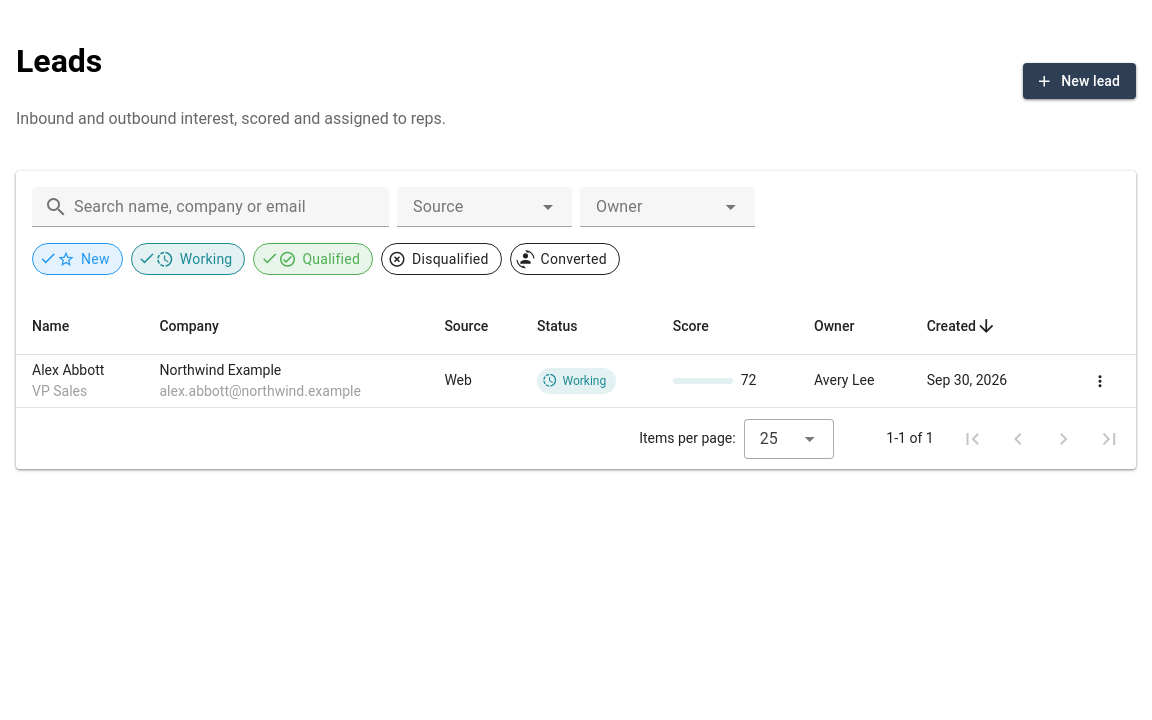
LeadsView › offers conversion and every other status to an open lead
This screenshot has width=1152, height=720.
Click the button with test id "actions". click: click(1100, 381)
box: [1080,361,1120,401]
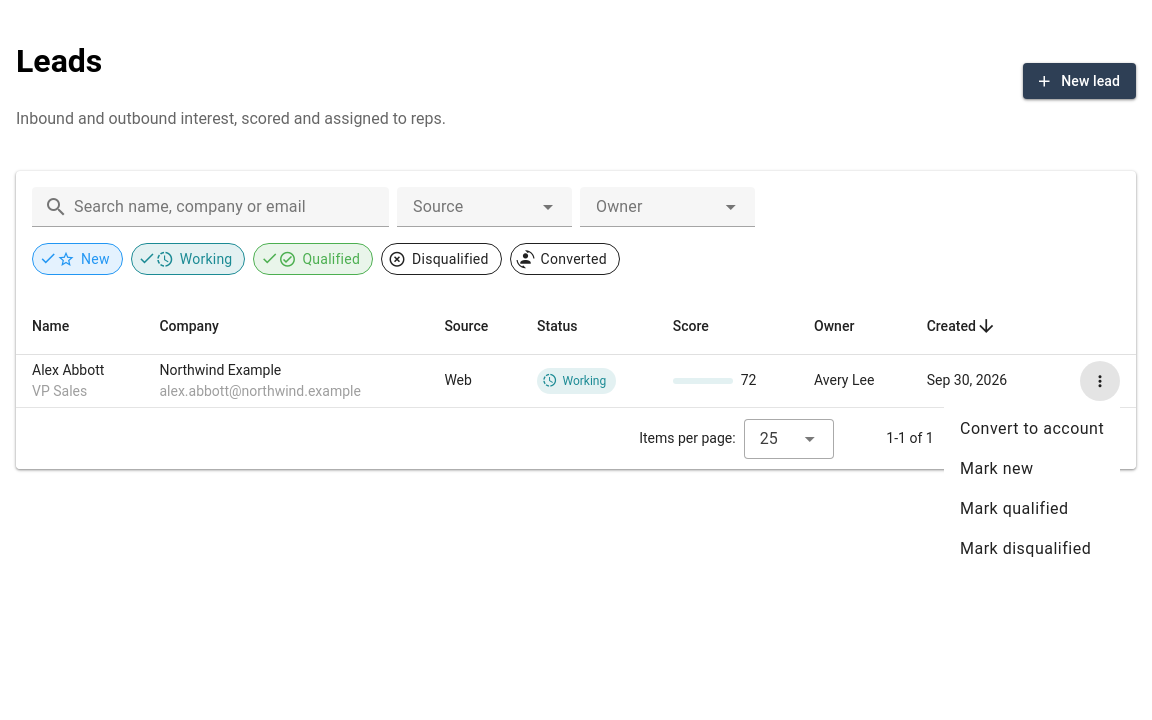
Check: the list item with test id "convert" is shown, box [960,419,1104,438]
